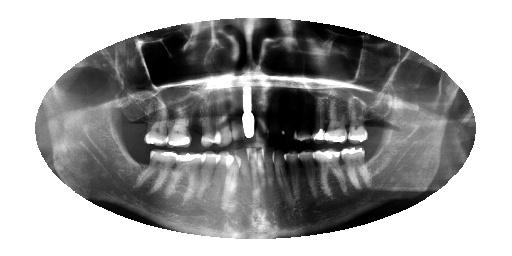i10healthy: (234, 148, 250, 196)
i11healthy: (226, 154, 242, 199)
i12healthy: (218, 151, 230, 194)
i13healthy: (200, 151, 219, 194)
i14healthy: (172, 150, 205, 202)
i15healthy: (140, 154, 179, 193)
i16loss: (123, 150, 148, 180)
i1loss: (366, 146, 384, 180)
i2healthy: (340, 146, 370, 193)
i3healthy: (313, 149, 347, 197)
i4decay: (298, 147, 317, 201)
i5decay: (284, 151, 302, 198)
i6decay: (271, 147, 287, 202)
i7decay: (264, 149, 274, 210)
i8healthy: (256, 147, 266, 190)
i9healthy: (246, 144, 247, 201)
u10decay: (229, 82, 245, 142)
u11healthy: (216, 86, 232, 145)
u12healthy: (199, 86, 216, 147)
u13loss: (191, 88, 201, 147)
u14healthy: (168, 88, 191, 148)
u15healthy: (143, 87, 166, 144)
u16loss: (125, 105, 144, 132)
u1healthy: (347, 95, 368, 143)
u2healthy: (323, 94, 348, 141)
u3healthy: (312, 92, 325, 143)
u4loss: (296, 89, 313, 141)
u5loss: (285, 87, 295, 141)
u6loss: (275, 86, 284, 141)
u7loss: (266, 86, 274, 142)
u8decay: (254, 86, 268, 143)
u9healthy: (242, 83, 255, 139)
